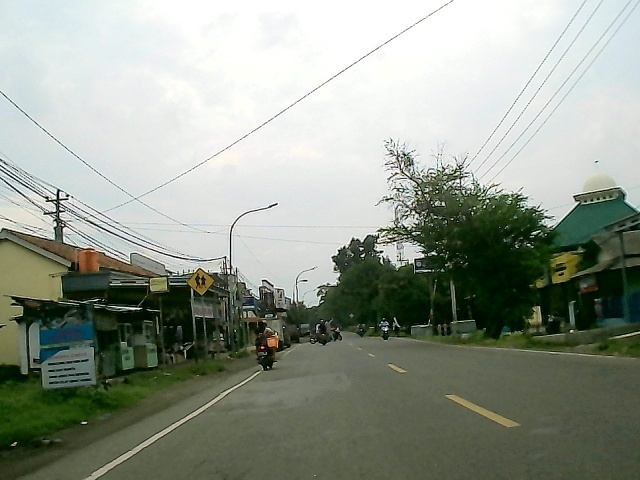Peringatan anak menyeberang: (185, 267, 216, 298)
